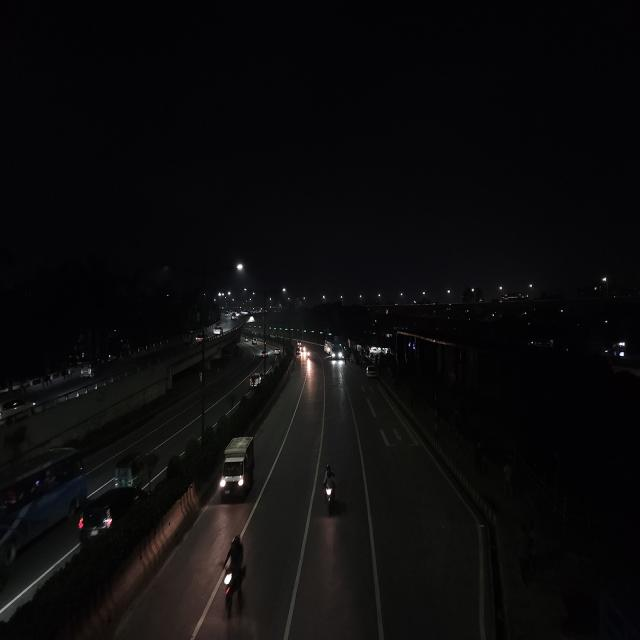bus: (330, 338, 344, 362)
car: (73, 484, 129, 550), (248, 372, 262, 391), (364, 362, 378, 380), (195, 332, 208, 345), (212, 326, 224, 338)
cng: (111, 447, 147, 489)
motorcycle: (217, 530, 253, 618), (320, 461, 342, 516)
truck: (218, 432, 258, 504)
